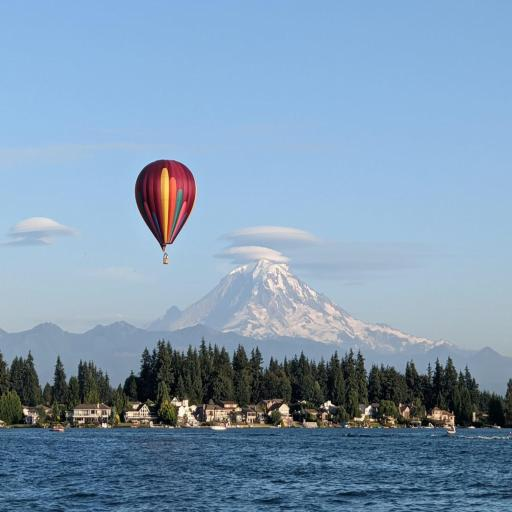hot air ballon: (135, 160, 197, 264)
